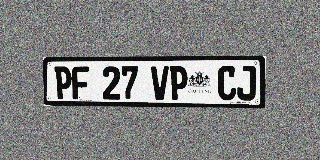2: (103, 66, 120, 100)
7: (121, 66, 138, 100)
C: (218, 66, 237, 100)
F: (72, 66, 89, 99)
J: (237, 66, 256, 101)
P: (169, 66, 188, 100), (54, 66, 72, 99)
V: (151, 66, 169, 100)
